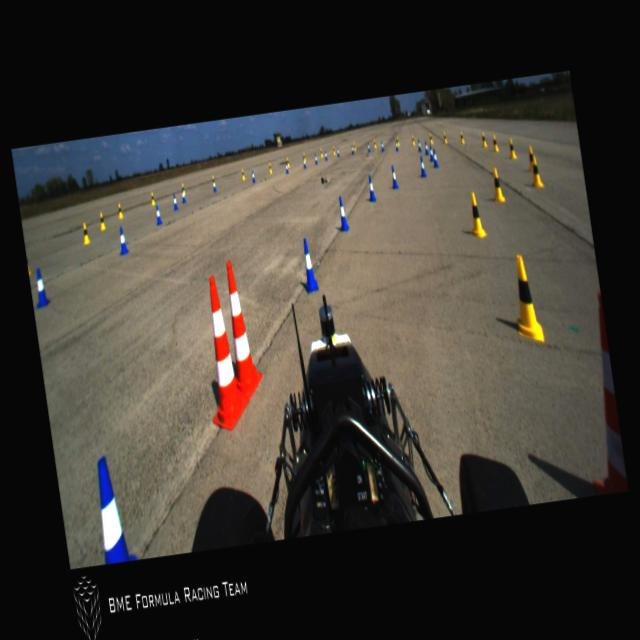blue_cone: (91, 454, 138, 564), (298, 237, 320, 294), (32, 268, 50, 307), (336, 196, 349, 232), (117, 226, 128, 254), (366, 175, 376, 202), (389, 165, 398, 189), (418, 156, 426, 177), (154, 205, 162, 225), (432, 150, 438, 168), (172, 194, 178, 210), (429, 146, 434, 162), (424, 141, 429, 155), (181, 190, 186, 202), (336, 147, 341, 157), (418, 140, 422, 152), (252, 171, 256, 183), (302, 157, 306, 169), (212, 181, 216, 192), (285, 163, 289, 174), (380, 141, 384, 151), (367, 142, 371, 152), (324, 150, 328, 160), (314, 154, 318, 164), (351, 145, 354, 155), (395, 142, 398, 150)
large_orange_cone: (568, 292, 628, 496), (193, 274, 253, 432), (220, 260, 265, 399)
yellow_cone: (508, 252, 544, 346), (468, 191, 487, 238), (490, 167, 506, 204), (530, 156, 544, 190), (526, 146, 536, 172), (80, 222, 90, 245), (508, 138, 516, 160), (98, 212, 106, 232), (26, 255, 32, 278), (480, 132, 488, 148), (492, 134, 499, 152), (118, 202, 124, 218), (150, 192, 156, 206), (443, 132, 448, 144), (429, 133, 434, 145), (396, 136, 401, 148), (460, 132, 464, 145), (182, 182, 186, 195), (242, 168, 246, 181), (268, 162, 272, 174), (212, 174, 216, 186), (286, 156, 290, 168), (332, 146, 336, 156), (353, 142, 357, 152), (373, 139, 377, 149), (412, 136, 415, 146), (303, 152, 306, 162), (321, 149, 324, 158)
